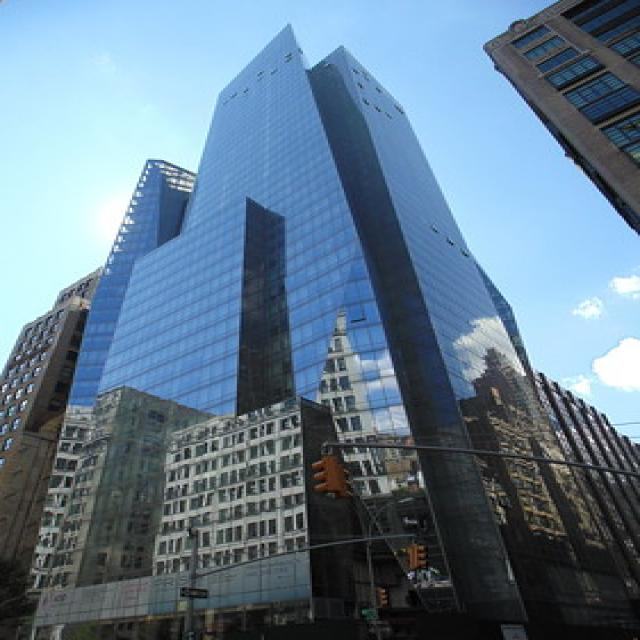Normal_building: (15, 17, 573, 634)
